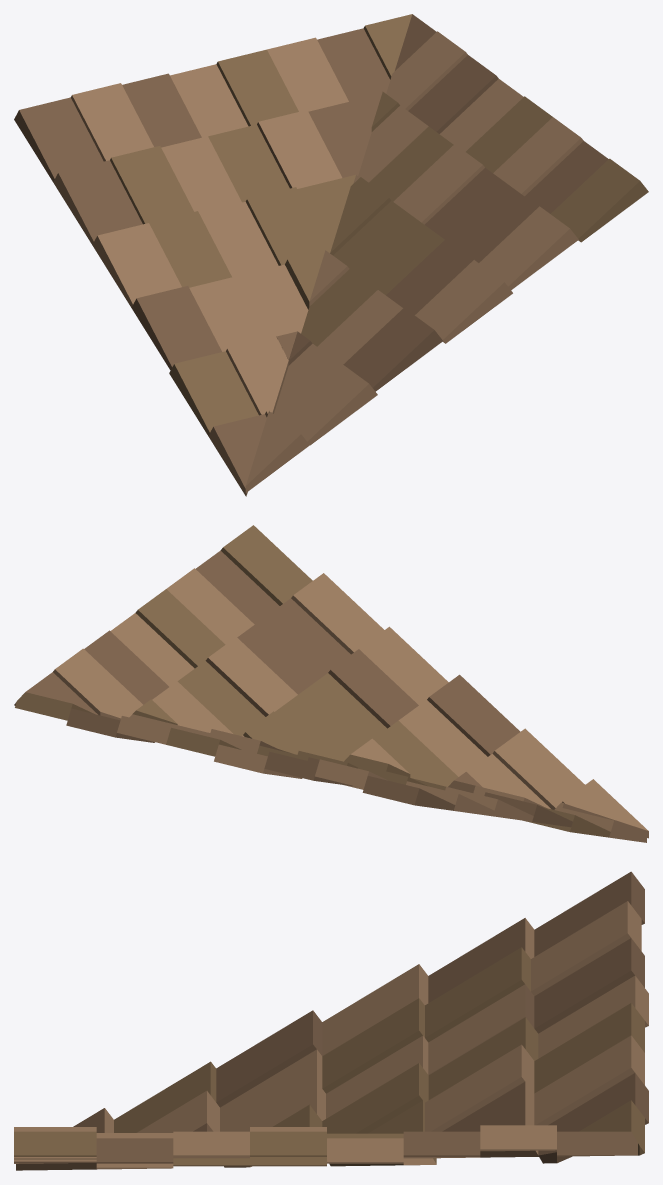
File: steampunk_roof_inner_corner.fbx
The picture shows the model from 3 angles, top to bottom: view 1: azimuth 30°, elevation 25°; view 2: azimuth 150°, elevation 25°; view 3: azimuth 270°, elevation 25°; orthographic projection. The views are drawn at different scales.
Visible parts, largest first — view 1: Cube.041; view 2: Cube.041; view 3: Cube.041.
Boxes of the visible parts, <box> form: Cube.041: <box>14,14,648,496</box>; Cube.041: <box>14,525,648,842</box>; Cube.041: <box>14,871,648,1170</box>.
Bounding box in the file's own units: 3.06 × 1.62 × 3.06.
